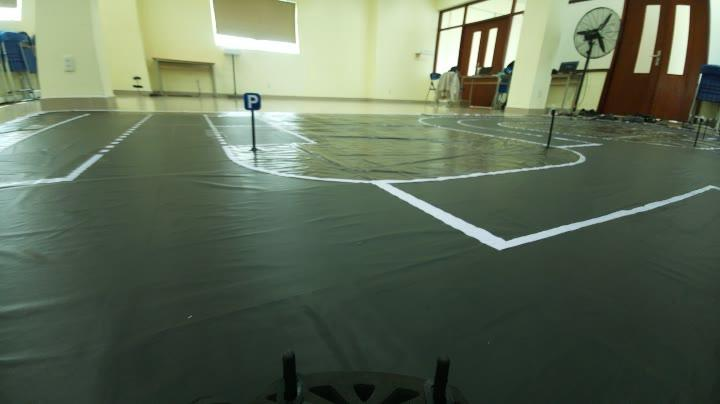parking: (240, 84, 268, 112)
